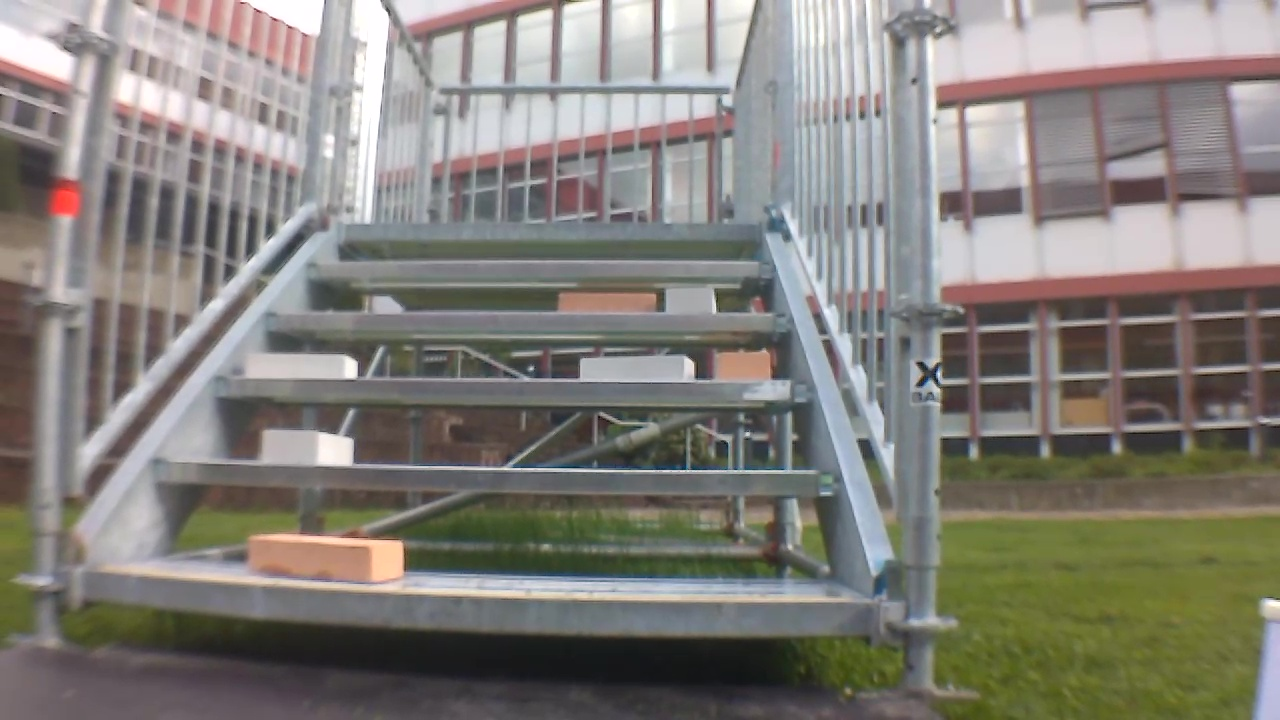brick: (249, 535, 402, 582), (263, 431, 352, 465), (580, 356, 694, 380), (246, 354, 355, 379), (559, 293, 655, 314), (717, 353, 769, 379), (666, 289, 715, 315)
edge: (86, 571, 866, 635), (157, 460, 838, 495), (215, 376, 812, 403), (267, 312, 794, 331), (340, 221, 759, 240), (310, 260, 778, 277)
stairs: (25, 2, 959, 700)
steps: (81, 216, 876, 660)
